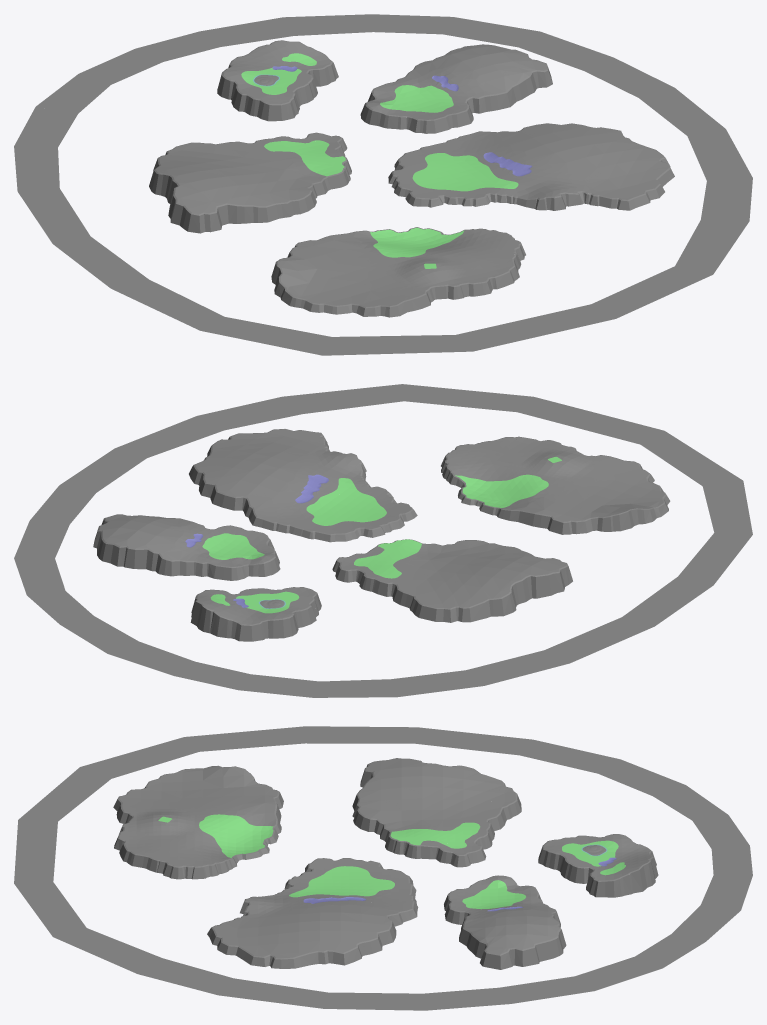
The model's file is glf_course_fc13.glb.
3 views of the same model, one above another, from view 1: azimuth 30°, elevation 25°; view 2: azimuth 150°, elevation 25°; view 3: azimuth 270°, elevation 25° (orthographic). The views are drawn at different scales.
Parts seen in each view (by area): view 1: collision_0x0005, collision_0x0004, collision_0x0002, collision_0x000c, collision_0x0001, collision_0x0003; view 2: collision_0x0005, collision_0x0004, collision_0x000c, collision_0x0002, collision_0x0001, collision_0x0003; view 3: collision_0x0005, collision_0x0004, collision_0x000c, collision_0x0002, collision_0x0001.
Boxes of the visible parts, x1,y1,x2,y2 form: collision_0x0005: [14, 14, 752, 355]; collision_0x0004: [156, 44, 668, 306]; collision_0x0002: [223, 40, 598, 296]; collision_0x000c: [149, 40, 674, 317]; collision_0x0001: [241, 53, 518, 268]; collision_0x0003: [272, 66, 532, 176]; collision_0x0005: [14, 384, 752, 697]; collision_0x0004: [99, 429, 664, 608]; collision_0x000c: [93, 429, 670, 641]; collision_0x0002: [175, 437, 616, 624]; collision_0x0001: [202, 457, 561, 613]; collision_0x0003: [185, 474, 328, 607]; collision_0x0005: [14, 726, 752, 1010]; collision_0x0004: [119, 758, 559, 958]; collision_0x000c: [113, 758, 658, 969]; collision_0x0002: [119, 801, 651, 920]; collision_0x0001: [158, 814, 625, 909].
Size of what is drawn, in the model's own units: 6500 by 259 by 7137.
